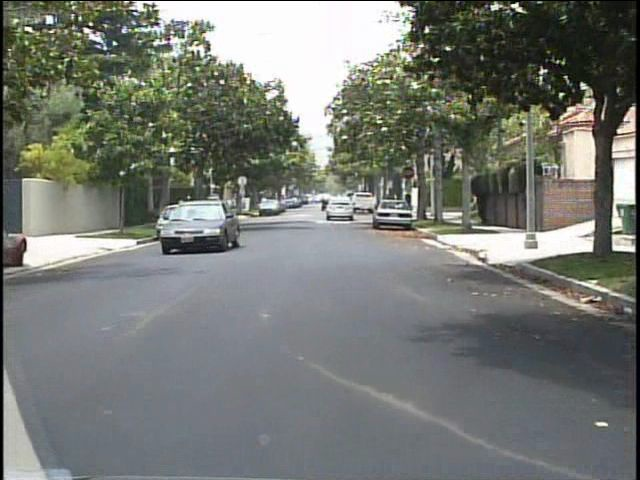person: (519, 184, 539, 238), (171, 194, 188, 230)
